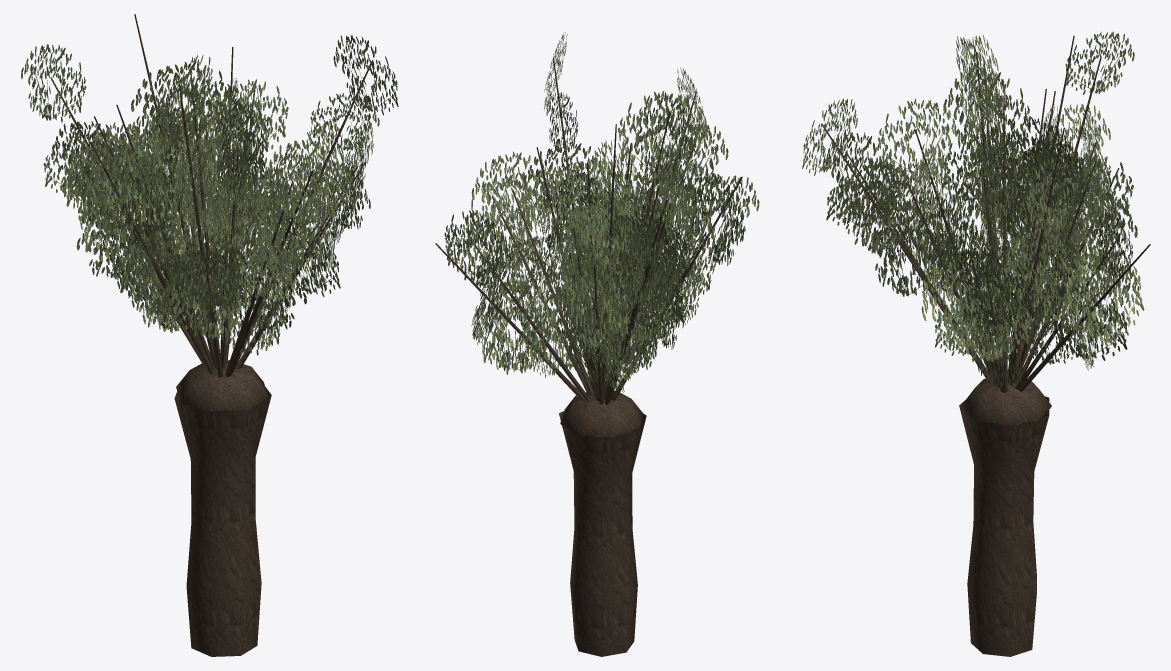
File: tpl_pollards_late_meadow_pollard_hi.glb
The picture shows the model from 3 angles, left to right: view 1: azimuth 30°, elevation 25°; view 2: azimuth 150°, elevation 25°; view 3: azimuth 270°, elevation 25°; orthographic projection. The views are drawn at different scales.
Visible parts, largest first — view 1: tpl_pollards_late_meadow_pollard_hi; view 2: tpl_pollards_late_meadow_pollard_hi; view 3: tpl_pollards_late_meadow_pollard_hi.
Boxes of the visible parts, x1,y1,x2,y2 form: tpl_pollards_late_meadow_pollard_hi: (21, 14, 398, 656); tpl_pollards_late_meadow_pollard_hi: (435, 32, 759, 656); tpl_pollards_late_meadow_pollard_hi: (802, 31, 1150, 656).
Bounding box in the file's own units: 3.31 × 6.21 × 3.45.
2 materials, 2 textured.
